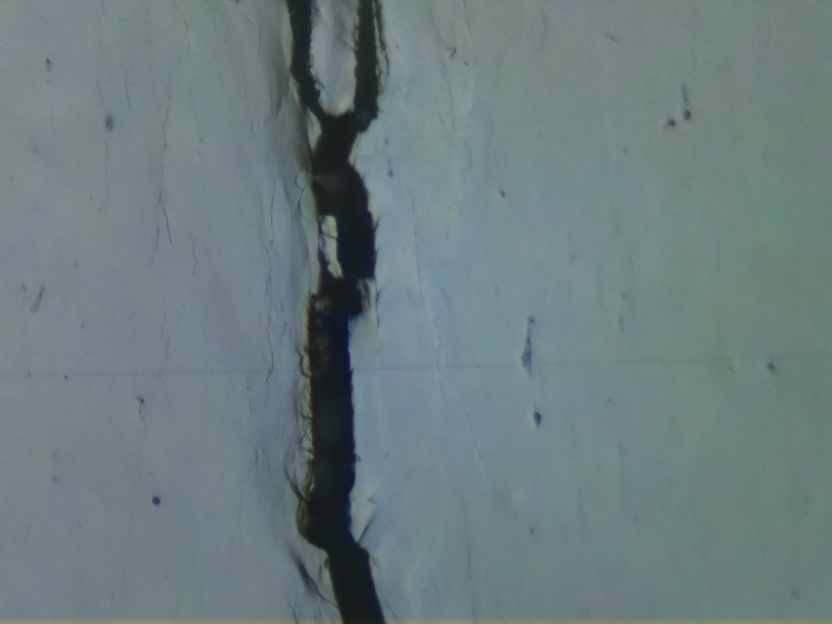crack: (288, 0, 386, 624)
